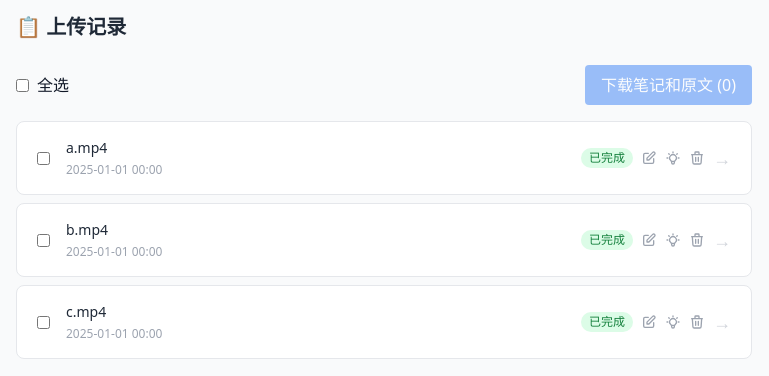
Test case: VideoListPage - 选择逻辑 › 选中多个视频
What coordinates should you click on to do the following:
click the checkbox next to "a.mp4"
I would click on:
 (44, 158)
Its box is [37,152,50,164].
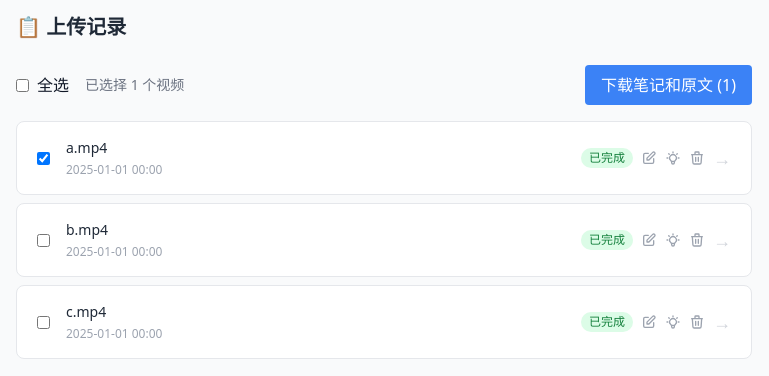
What coordinates should you click on to do the following:
click the checkbox next to "c.mp4"
I would click on:
 (44, 322)
Its box is [37,316,50,328].
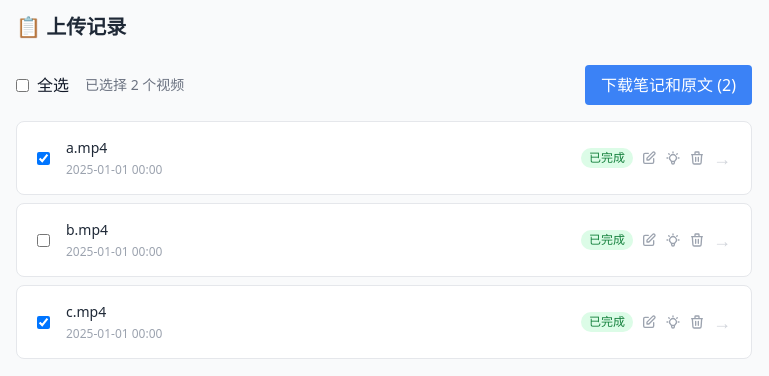
Expected: the button "下载笔记和原文 (2)" is enabled, [585,65,752,105]
Expected: the text "已选择 2 个视频" is shown, [85,75,184,95]
